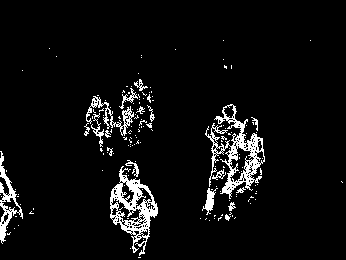person: (110, 159, 159, 255), (204, 103, 241, 215), (230, 115, 262, 216), (118, 80, 154, 148), (83, 94, 114, 158)
